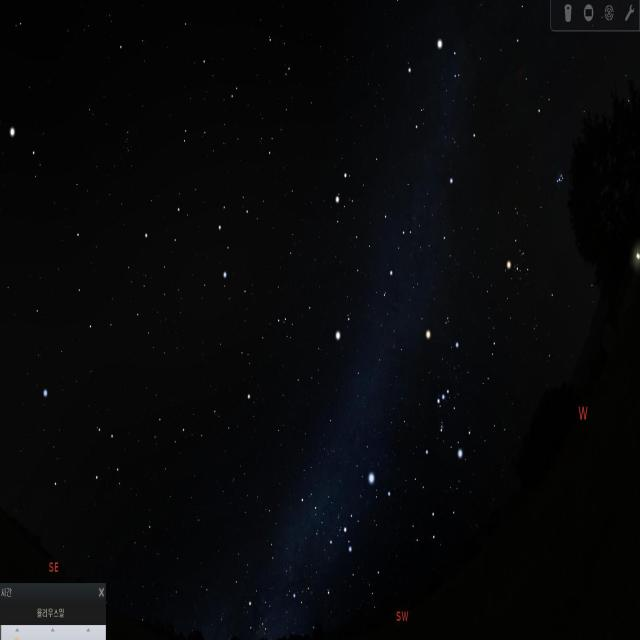canis_major: (334, 460, 402, 561)
canis_minor: (329, 300, 356, 346)
gemini: (322, 153, 415, 300)
leo: (136, 166, 258, 304)
orion: (418, 332, 469, 468)
pleiades: (552, 159, 570, 199)
taurus: (500, 145, 574, 300)
